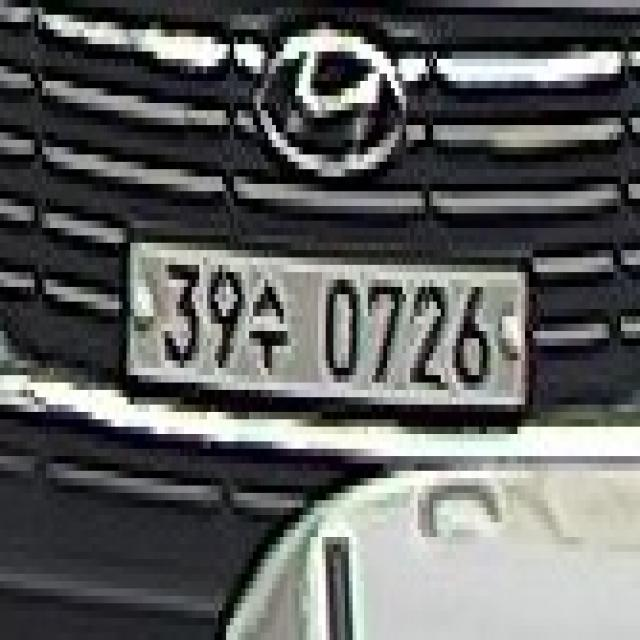0: (322, 272, 360, 383)
2: (410, 279, 448, 390)
3: (165, 258, 199, 375)
6: (452, 272, 494, 390)
7: (368, 280, 402, 382)
9: (211, 265, 241, 368)
license_plate: (122, 228, 532, 419)
su: (245, 272, 288, 375)
